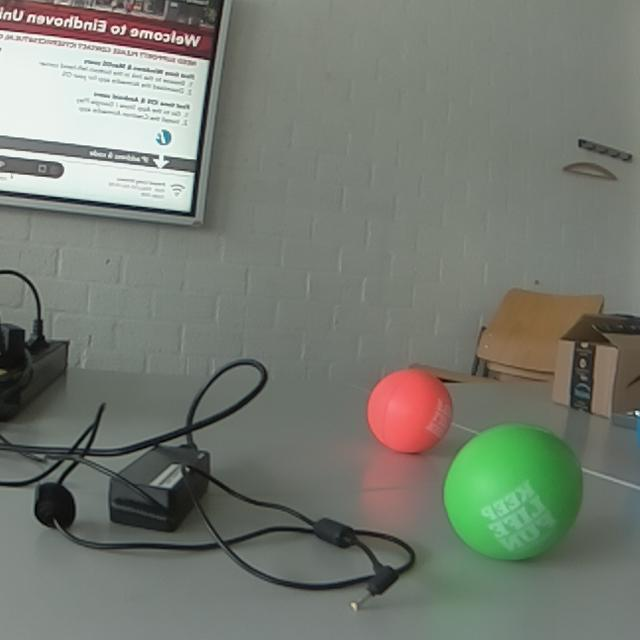ball: (442, 422, 586, 564), (367, 364, 452, 455)
